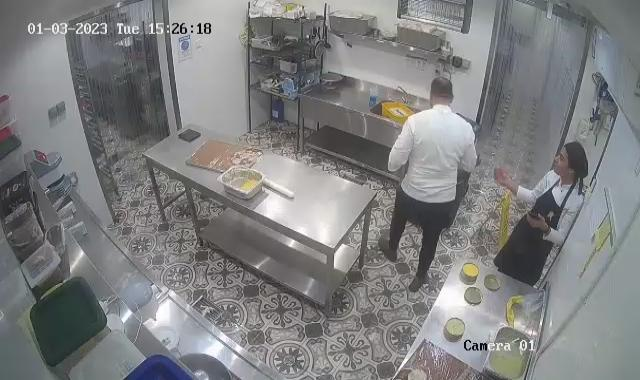no_hairnet: (560, 142, 587, 176), (427, 75, 454, 95)
